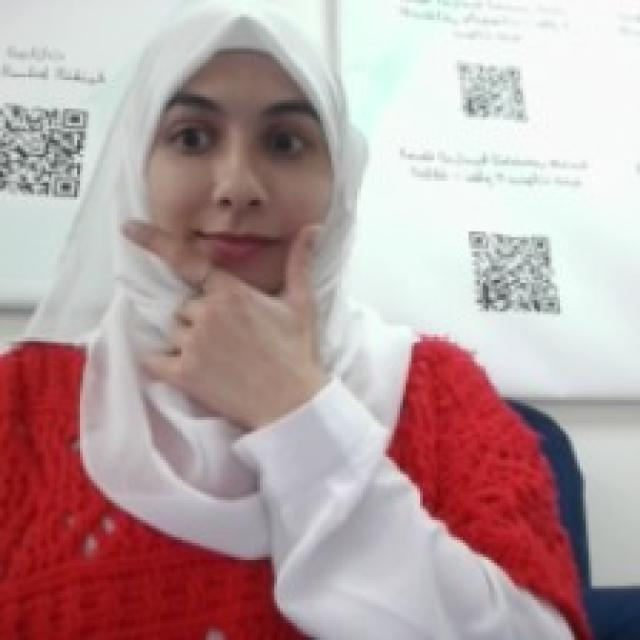smile: (112, 203, 337, 394)
